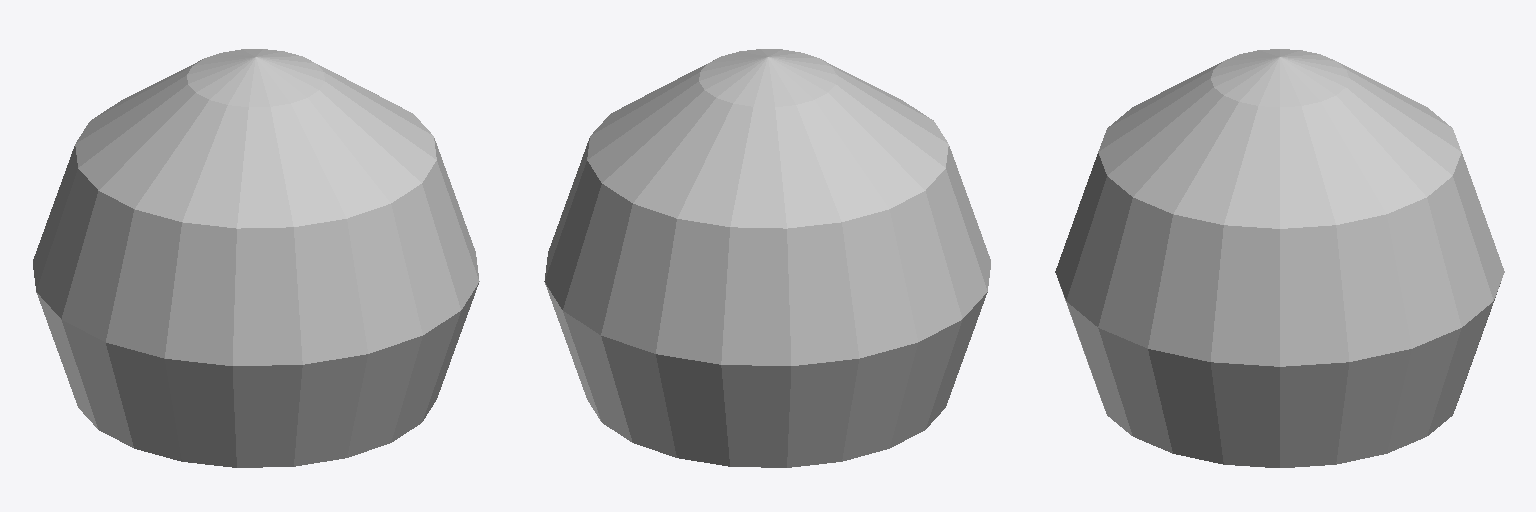
The model's file is particle.obj.
3 renders of one model, left to right at view 1: azimuth 30°, elevation 25°; view 2: azimuth 150°, elevation 25°; view 3: azimuth 270°, elevation 25°, orthographic.
Parts seen in each view (by area): view 1: pSphere1; view 2: pSphere1; view 3: pSphere1.
Boxes of the visible parts, x1,y1,x2,y2 form: pSphere1: [33, 49, 479, 467]; pSphere1: [544, 49, 990, 467]; pSphere1: [1055, 49, 1504, 467].
Bounding box in the file's own units: 0.0602 × 0.0589 × 0.0602.